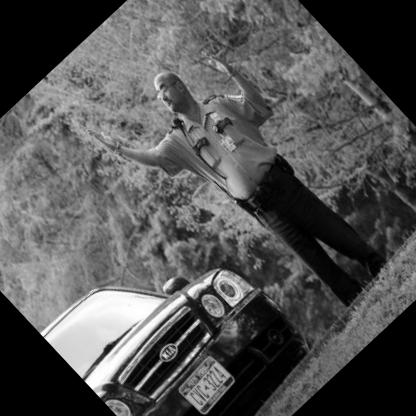car: (28, 184, 328, 416)
